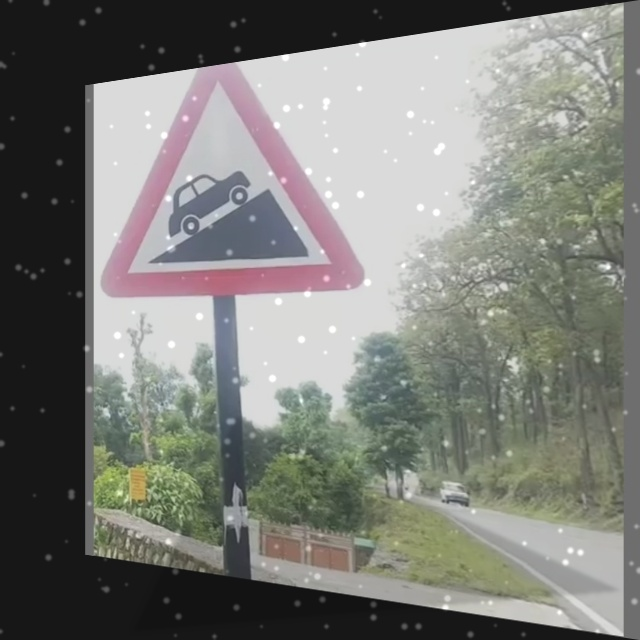Steep_Ascent: (112, 49, 360, 290)
